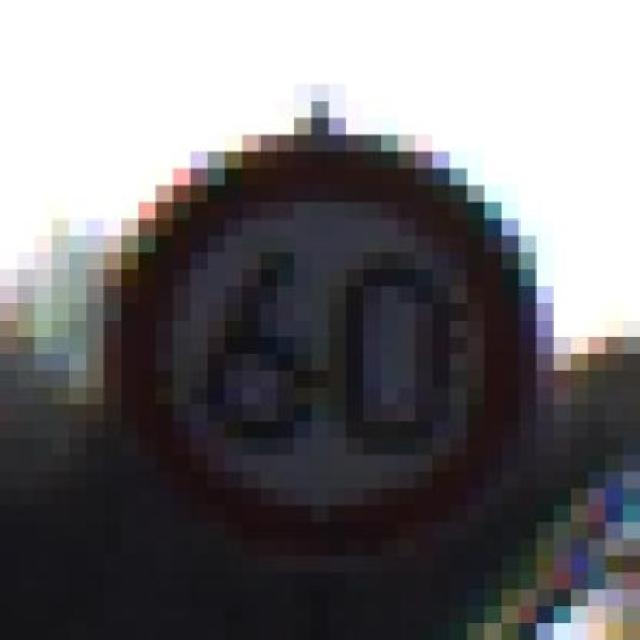forb_speed_over_60: (122, 137, 530, 543)
